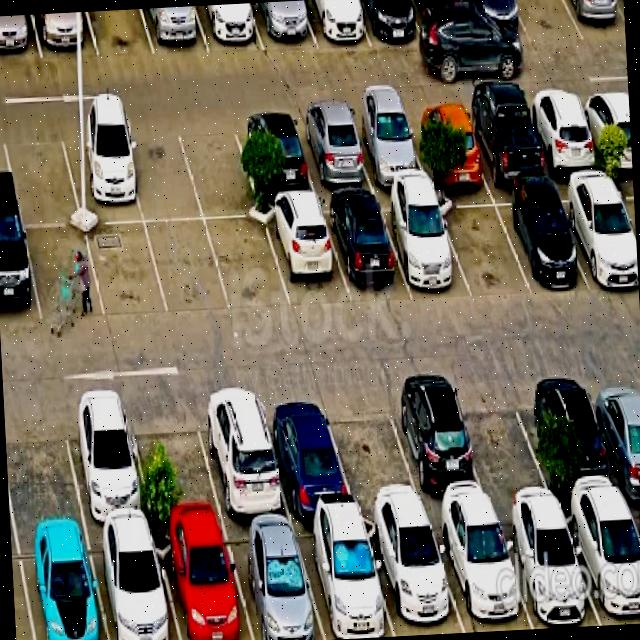empty: (454, 375, 556, 508), (322, 385, 425, 512), (126, 395, 224, 527), (4, 398, 85, 534), (435, 192, 531, 297), (176, 115, 261, 220), (122, 121, 203, 222), (1, 125, 82, 225), (146, 221, 231, 316), (86, 223, 169, 319), (206, 219, 290, 311), (25, 227, 105, 323), (513, 0, 584, 45), (88, 9, 155, 56)
occupied: (385, 379, 493, 513), (193, 386, 291, 522), (495, 507, 601, 629), (429, 510, 533, 633), (258, 389, 356, 518), (293, 517, 395, 640), (59, 396, 153, 528), (531, 371, 625, 503), (363, 516, 465, 636), (223, 523, 325, 640), (154, 525, 253, 640), (88, 528, 180, 640), (491, 188, 588, 293), (561, 499, 640, 626), (17, 531, 108, 640), (262, 199, 351, 310), (378, 194, 472, 297), (321, 196, 412, 302), (552, 178, 639, 287), (59, 123, 144, 224), (461, 99, 549, 184), (233, 113, 317, 199), (586, 369, 640, 498), (293, 110, 375, 193), (346, 107, 429, 188), (404, 103, 489, 182), (523, 93, 604, 175), (577, 91, 633, 169), (0, 223, 41, 326), (195, 3, 264, 53), (355, 0, 425, 47), (301, 0, 371, 47), (142, 6, 209, 55), (251, 1, 316, 50), (411, 0, 478, 47), (32, 12, 98, 59), (463, 0, 531, 44), (565, 0, 626, 40), (0, 15, 42, 60)
